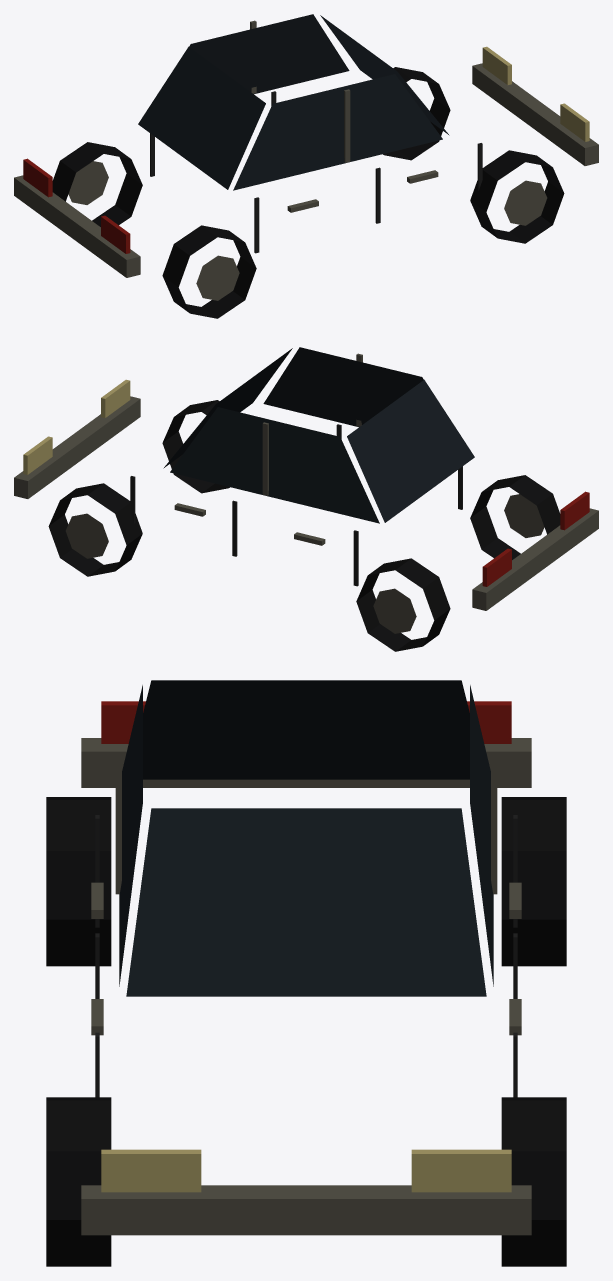
File: wreck_trim.obj
The picture shows the model from 3 angles, top to bottom: view 1: azimuth 30°, elevation 25°; view 2: azimuth 150°, elevation 25°; view 3: azimuth 270°, elevation 25°; orthographic projection. The views are drawn at different scales.
Visible parts, largest first — view 1: wreck_trim; view 2: wreck_trim; view 3: wreck_trim.
Part boxes in pixels (x1=…): wreck_trim: x1=14, y1=14, x2=598, y2=318; wreck_trim: x1=14, y1=347, x2=598, y2=651; wreck_trim: x1=46, y1=680, x2=566, y2=1266.
Bounding box in the file's own units: 4.36 × 1.58 × 2.09.
